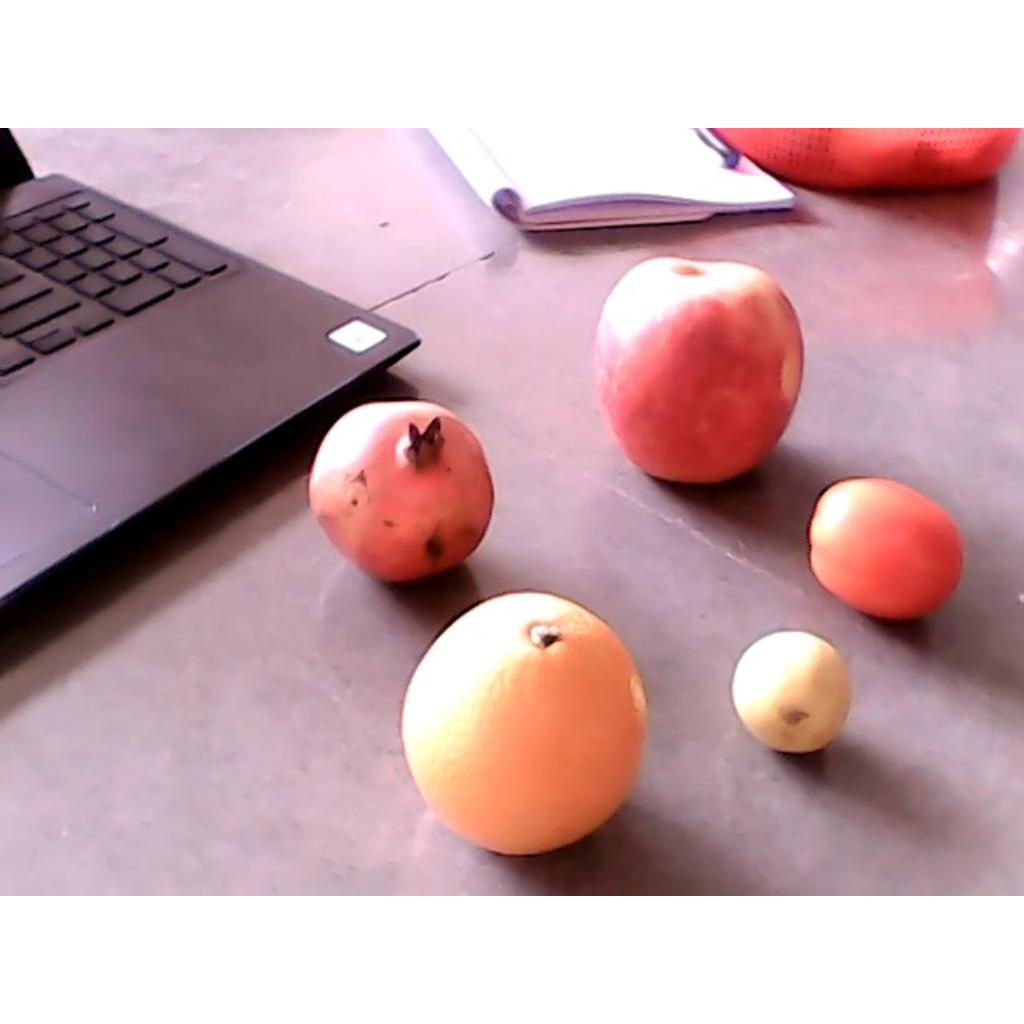apple: (591, 254, 806, 484)
lemon: (732, 628, 851, 754)
orange: (402, 591, 646, 855)
pomegranate: (310, 401, 495, 583)
tomato: (808, 474, 964, 621)
